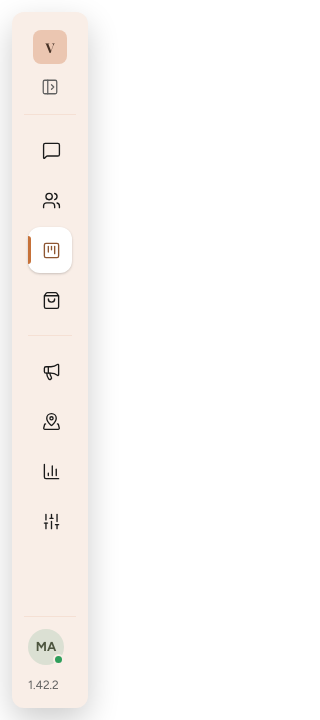
Test: Sidebar — larguras › expande de volta
The width and height of the screenshot is (320, 720).
Click the button named "Expandir menu" at (50, 87), box [35,72,65,102]
(page scrolled)
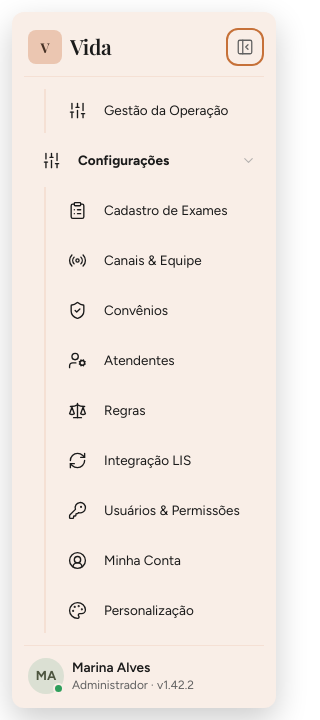
Result: the text "Personalização" is shown at [104,602,194,618]
